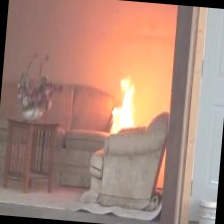fire: (113, 75, 142, 133)
